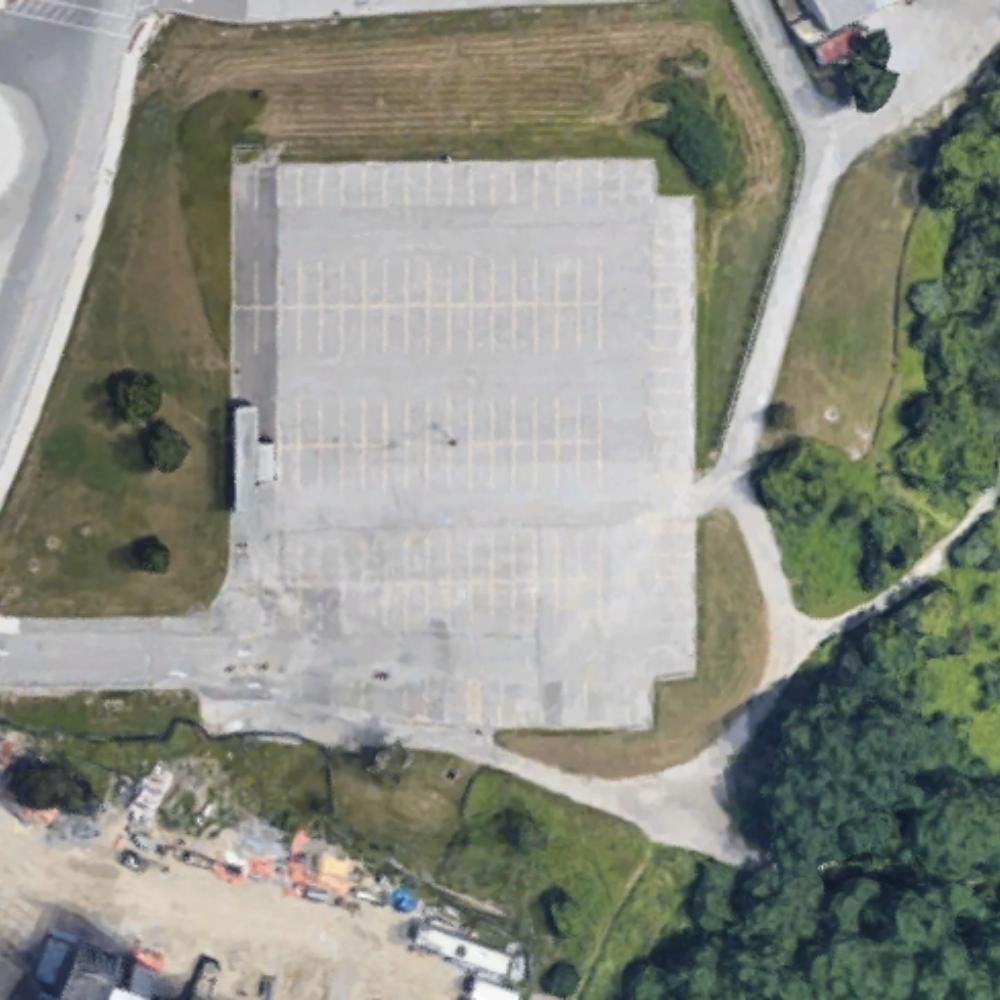parking: (235, 165, 690, 730)
